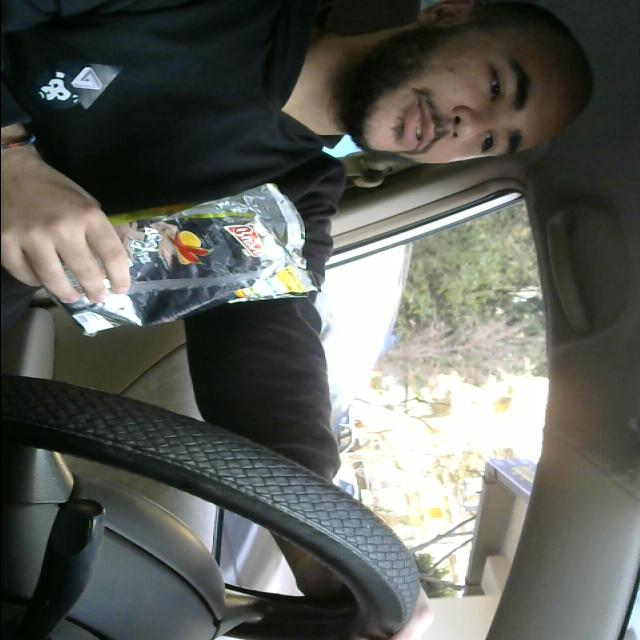eating: (41, 184, 323, 338)
